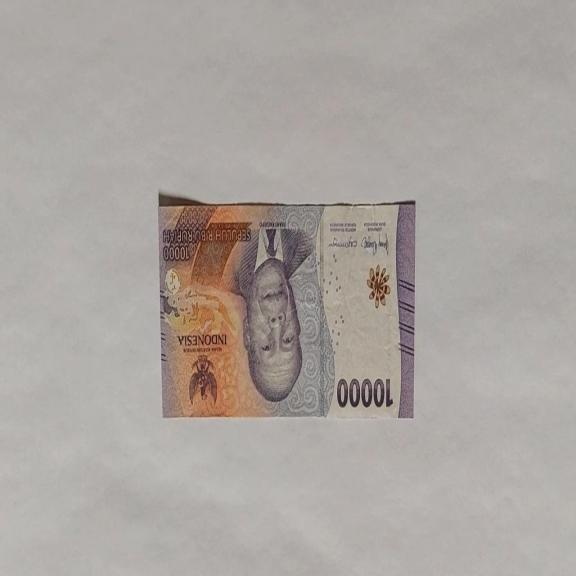Kertas: (158, 194, 416, 420)
